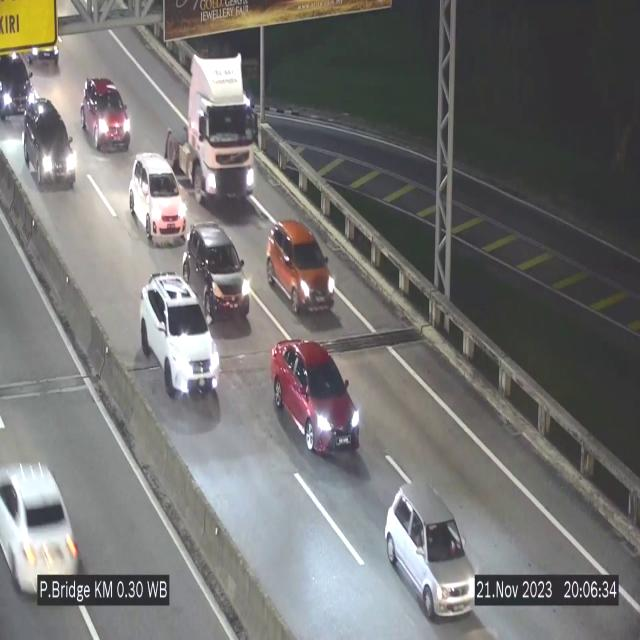Car: (0, 430, 79, 609), (384, 484, 478, 619), (272, 338, 362, 458), (139, 270, 219, 400), (186, 218, 256, 327), (266, 220, 336, 315), (24, 96, 80, 193), (129, 153, 185, 246), (81, 68, 131, 154), (0, 49, 34, 123)
Truck: (163, 56, 253, 202)
